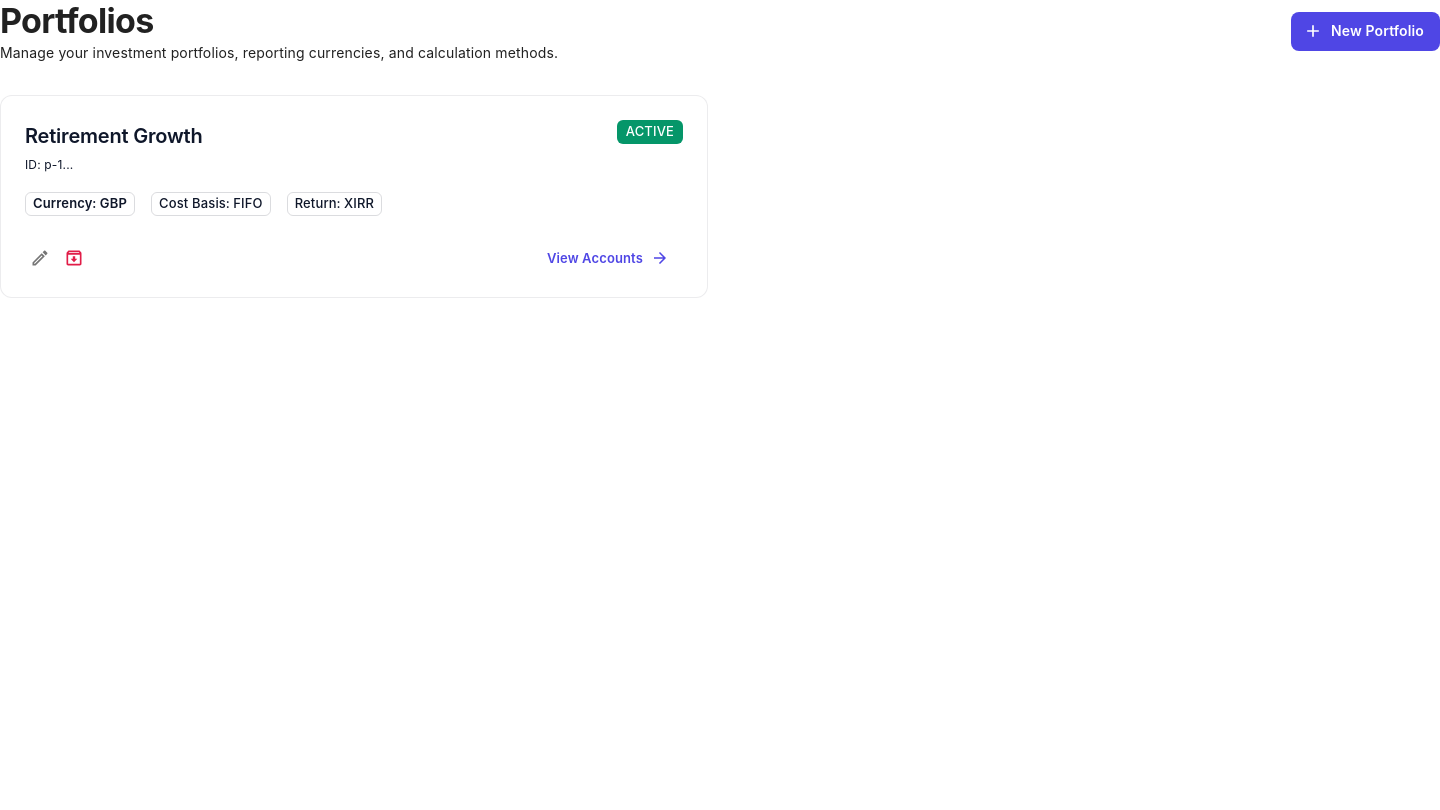
it: Feature Pages › renders PortfolioListPage and opens create modal
Check: the heading "Retirement Growth" is shown, box top-left (25, 120), bottom-right (202, 152)
Check: the text "Currency: GBP" is shown, box top-left (26, 194), bottom-right (134, 214)
Click the button "New Portfolio" at point(1365, 31), box top-left (1291, 12), bottom-right (1439, 51)
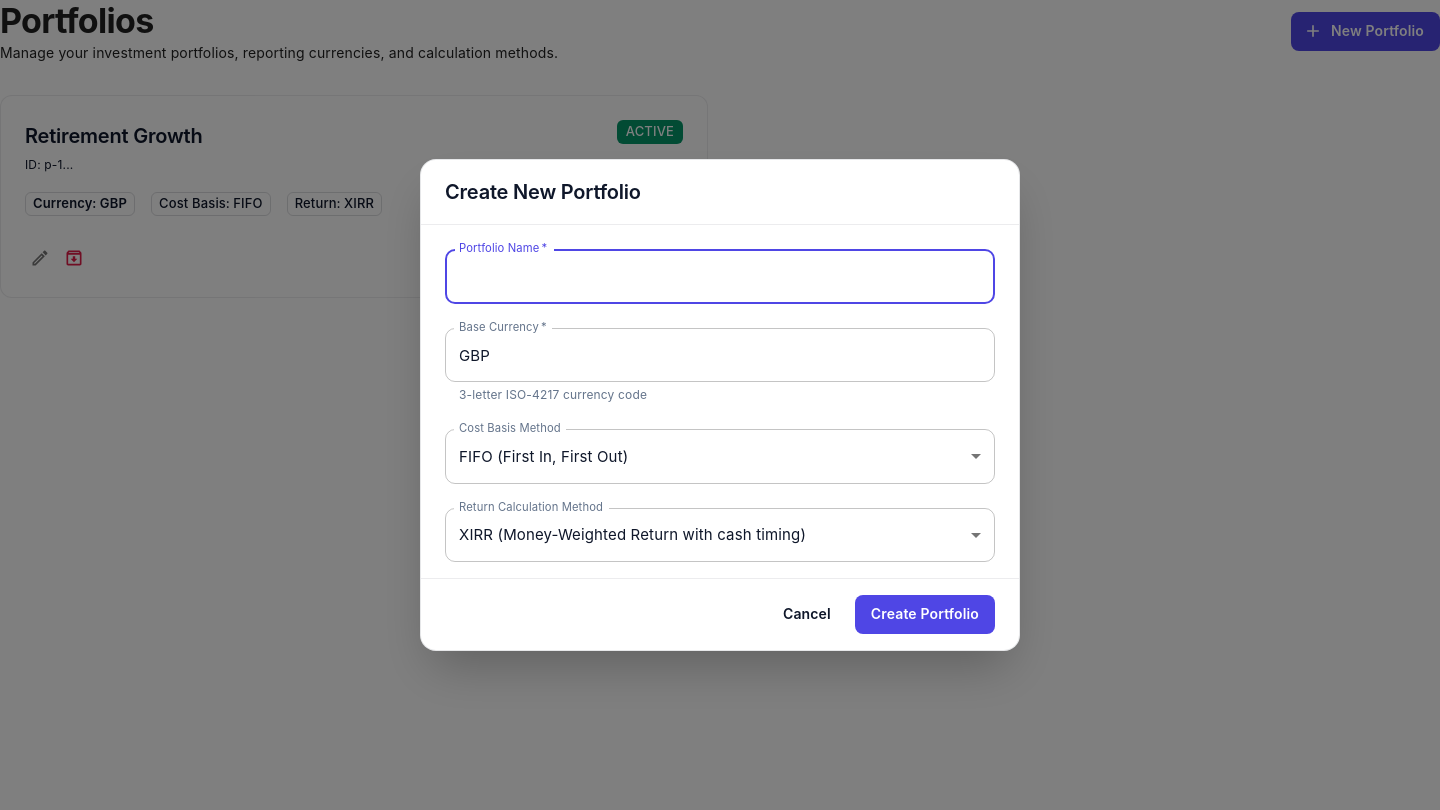
Check: the heading "Create New Portfolio" is shown, box top-left (445, 180), bottom-right (641, 204)
Check: the field labelled "Portfolio Name *" is shown, box top-left (445, 249), bottom-right (995, 304)
